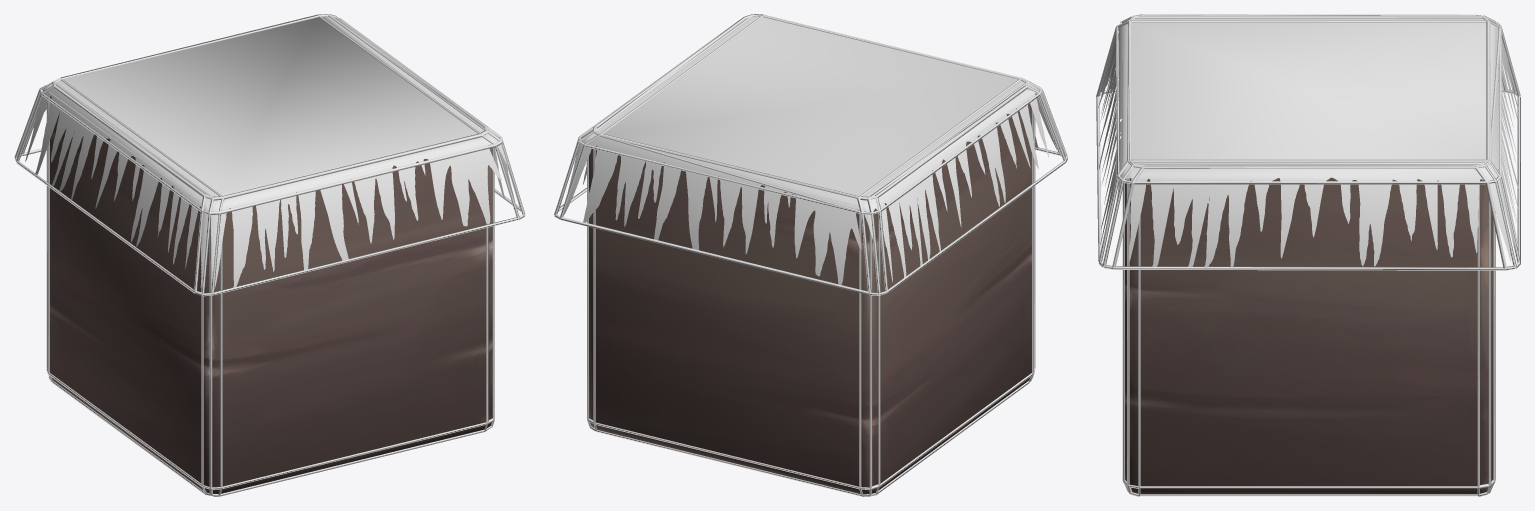
Rendered from Block.fbx.
3 views of the same model, side by side, from view 1: azimuth 30°, elevation 25°; view 2: azimuth 150°, elevation 25°; view 3: azimuth 270°, elevation 25° (orthographic). The views are drawn at different scales.
Visible parts, largest first — view 1: Block, WIRE; view 2: Block, WIRE; view 3: Block, WIRE.
Part boxes in pixels (x1=…): Block: x1=25, y1=16, x2=514, y2=494; WIRE: x1=14, y1=14, x2=525, y2=496; Block: x1=563, y1=16, x2=1063, y2=494; WIRE: x1=554, y1=14, x2=1067, y2=496; Block: x1=1098, y1=18, x2=1518, y2=494; WIRE: x1=1096, y1=14, x2=1520, y2=496.
Size of the model in its own units: 115 by 100 by 115.
Materials: 2 (1 with a texture image).
